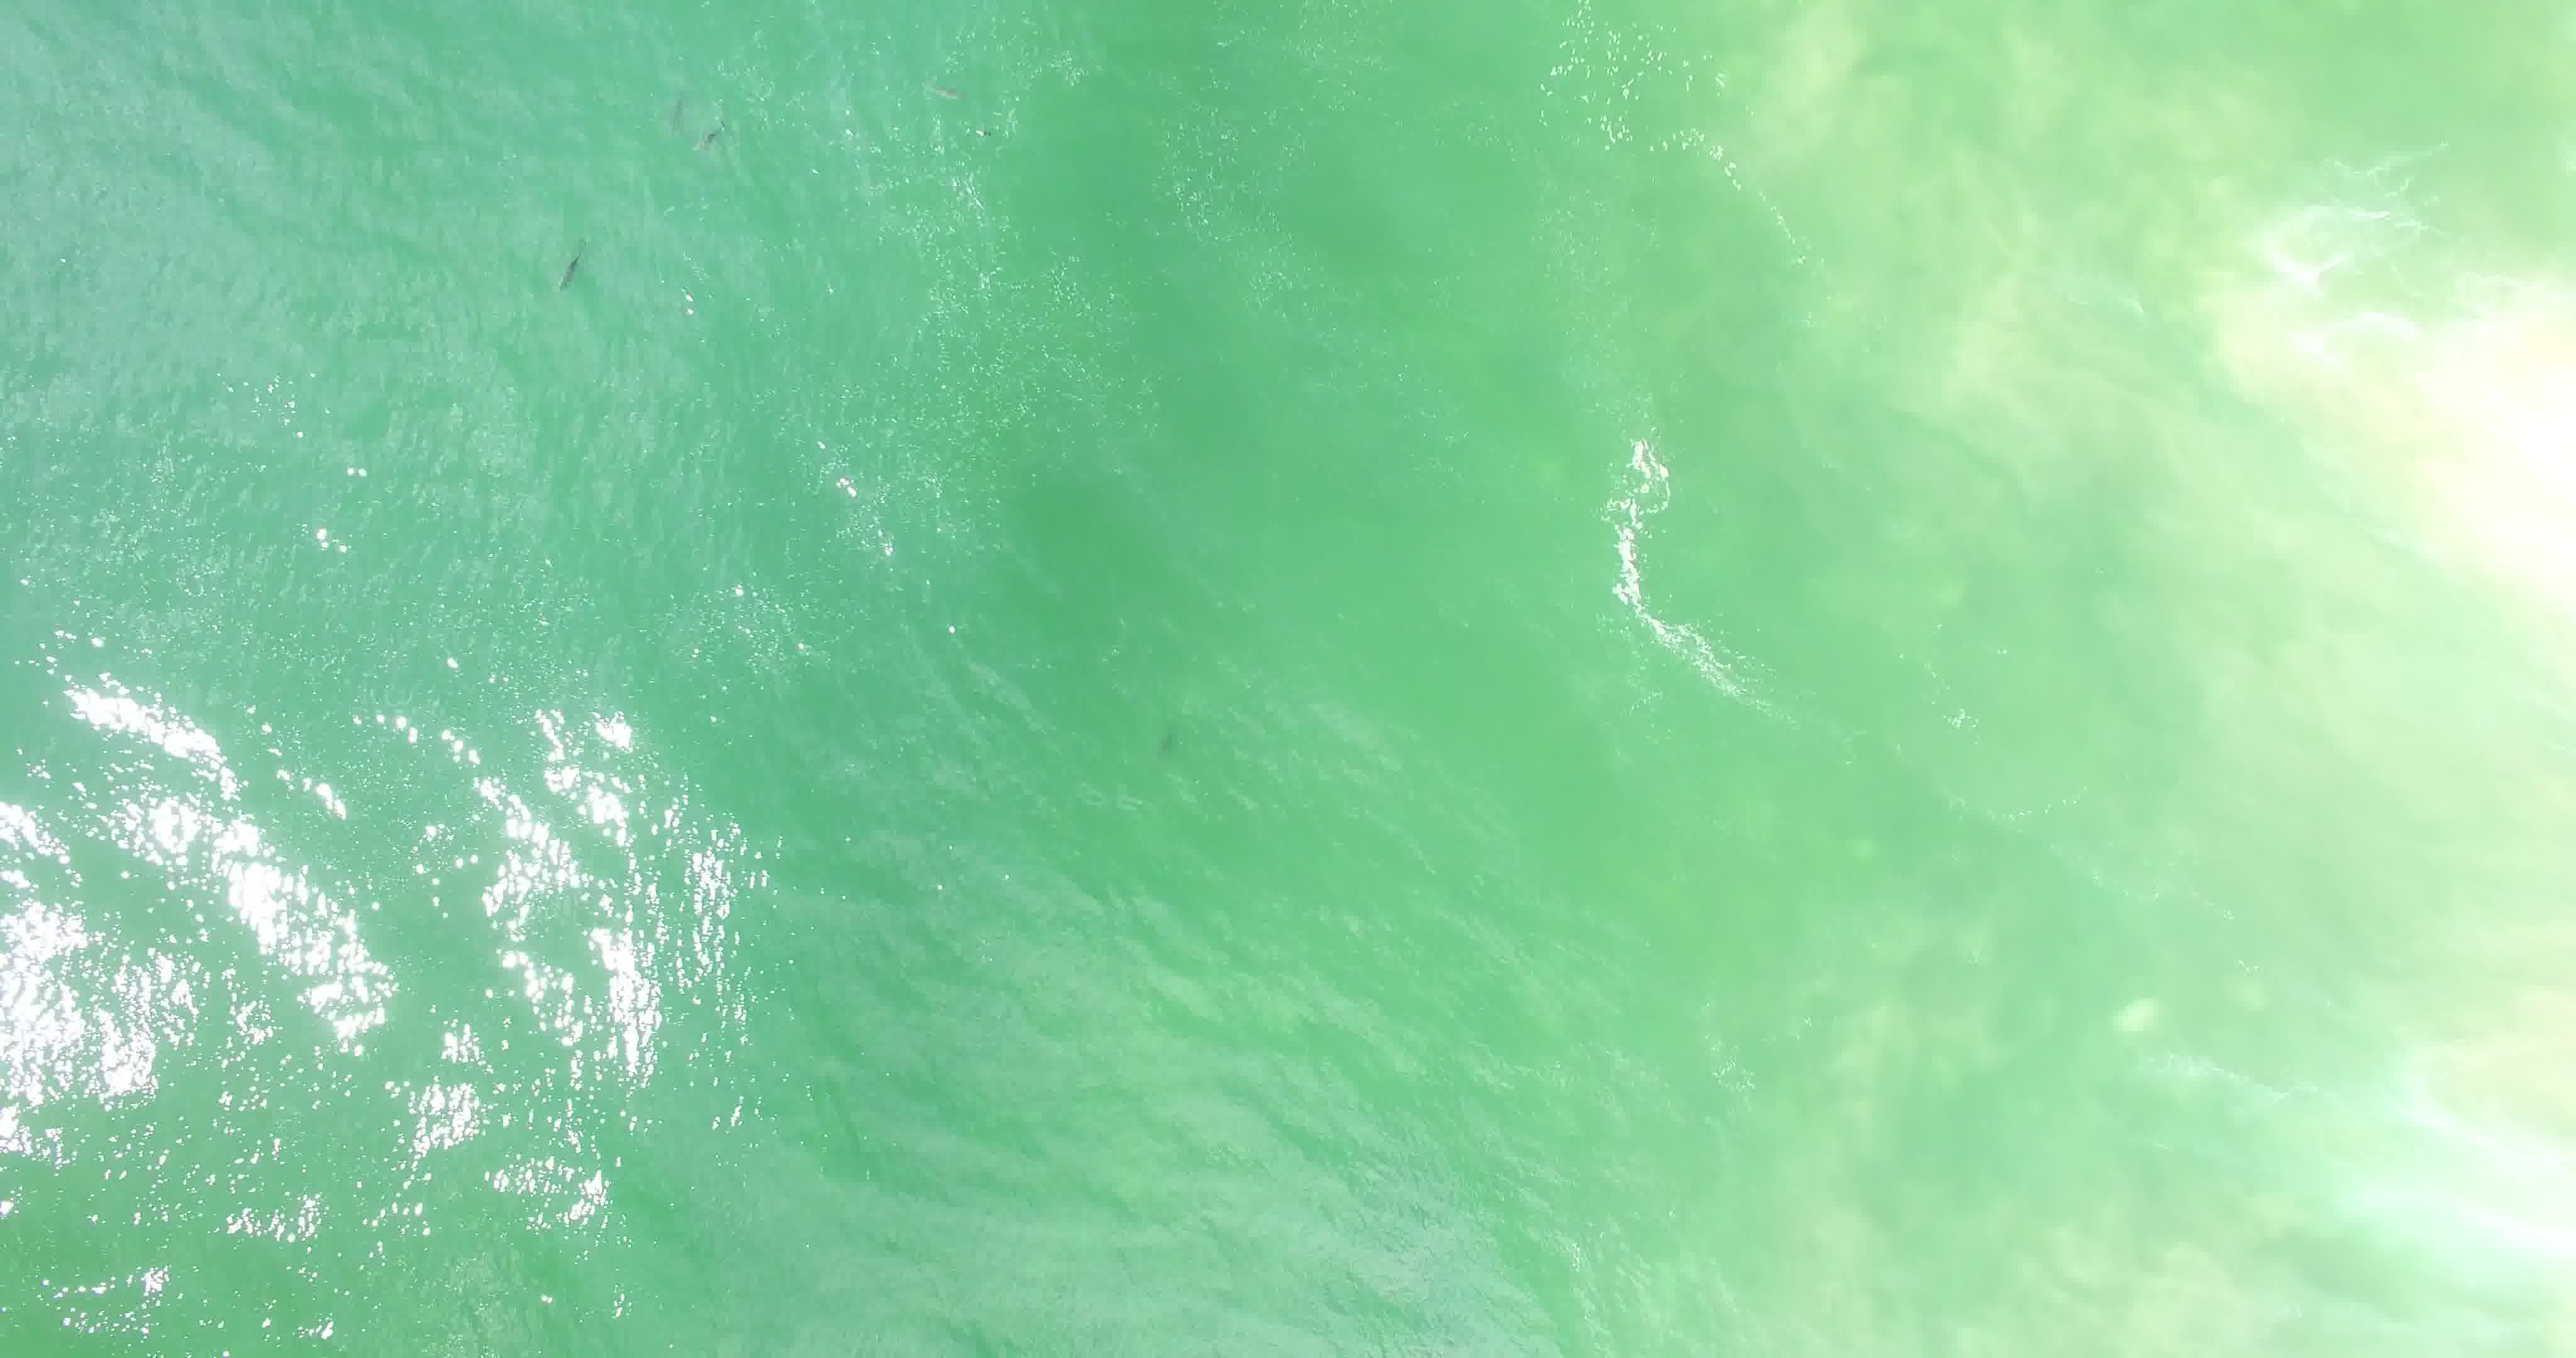dolphin: (532, 215, 600, 307), (680, 92, 745, 177), (649, 66, 697, 147)
